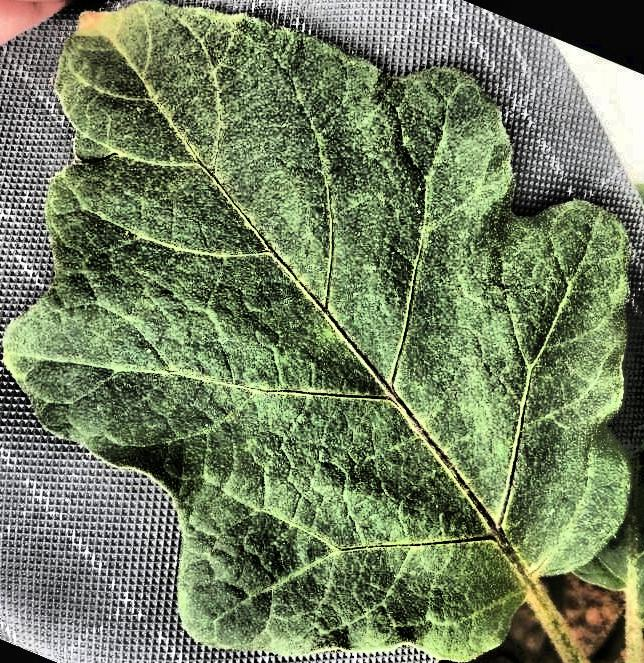HEALTHY: (0, 1, 644, 663)
